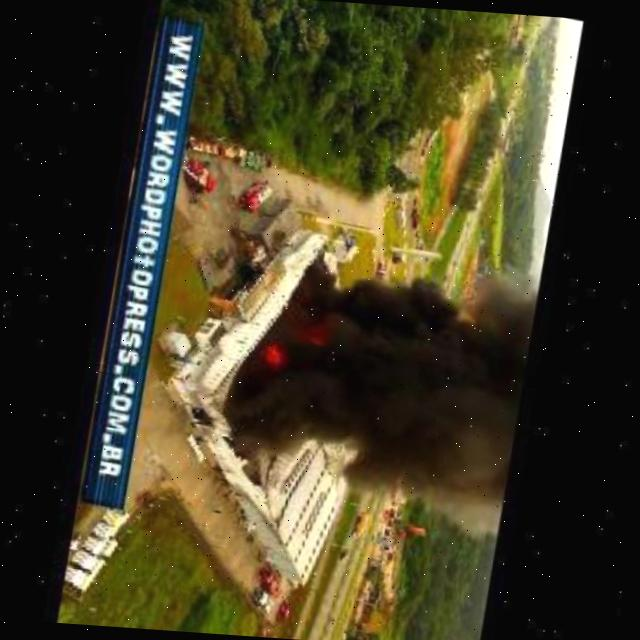fire: (261, 339, 293, 373)
